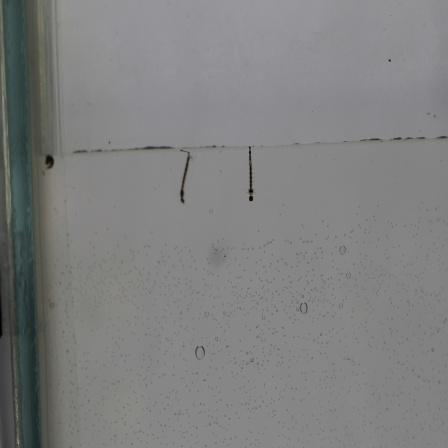Jentik-Nyamuk: (239, 143, 264, 209), (177, 150, 194, 210)
